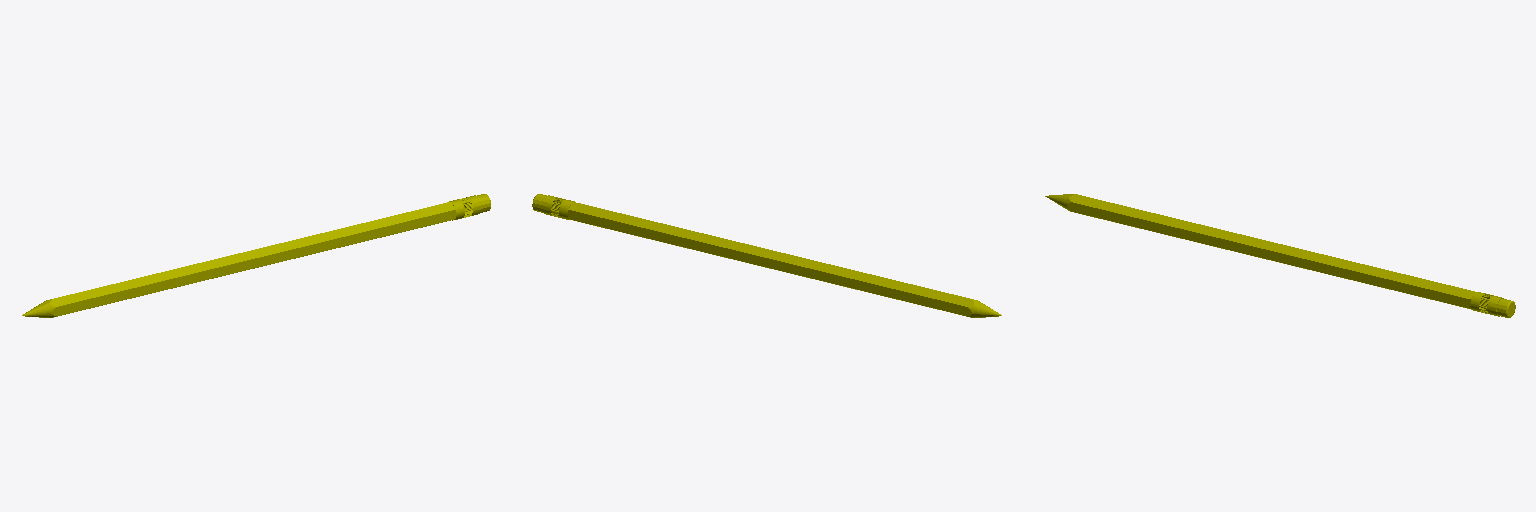
URDF robot description (pencil):
<?xml version="1.0"?>
<robot name="pencil">

  <material name="silver">
    <color rgba="0.700 0.700 0 1.000" />
  </material>

  <link name="base_link">
    <inertial>
      <origin xyz="-0.0006240958645046019 -3.0888484414778035e-15 -3.560535573539192e-15"
        rpy="0 0 0" />
      <mass value="0.00722496059813255" />
      <inertia ixx="0.0" iyy="1.6e-05" izz="1.6e-05" ixy="-0.0" iyz="-0.0" ixz="-0.0" />
    </inertial>
    <visual>
      <origin xyz="0 0 0" rpy="0 0 0" />
      <geometry>
        <mesh filename="package://lara_description/meshes/parts/pencil.stl"
          scale="0.001 0.001 0.001" />
      </geometry>
      <material name="silver" />
    </visual>
    <collision>
      <origin xyz="0 0 0" rpy="0 0 0" />
      <geometry>
        <mesh filename="package://lara_description/meshes/parts/pencil.stl"
          scale="0.001 0.001 0.001" />
      </geometry>
    </collision>
  </link>

  <gazebo reference="base_link">
    <material>Gazebo/Yellow</material>
    <kp>1000000.0</kp>
    <kd>1.0</kd>
    <mu1>1.16</mu1>
    <mu2>1.16</mu2>
    <maxVel>0.0</maxVel>
    <minDepth>0.003</minDepth>
  </gazebo>

</robot>

--- Render facts (derived) ---
3 views of the same robot in one strip: view 1: azimuth 30°, elevation 25°; view 2: azimuth 150°, elevation 25°; view 3: azimuth 330°, elevation 25° (orthographic).
Model pencil with 1 links and 0 joints (none), rooted at base_link, posed all joints at 0.
Visible links, largest first — view 1: base_link; view 2: base_link; view 3: base_link.
Link boxes in pixels (left/top/right/bottom): base_link: left=22, top=194, right=490, bottom=317; base_link: left=532, top=194, right=1001, bottom=317; base_link: left=1045, top=194, right=1515, bottom=317.
Bounding box of the posed robot: 0.179 × 0.0065 × 0.0069 m (x, y, z).
Meshes: 1 distinct files referenced, 1 mesh visuals loaded (1 binary STL).
